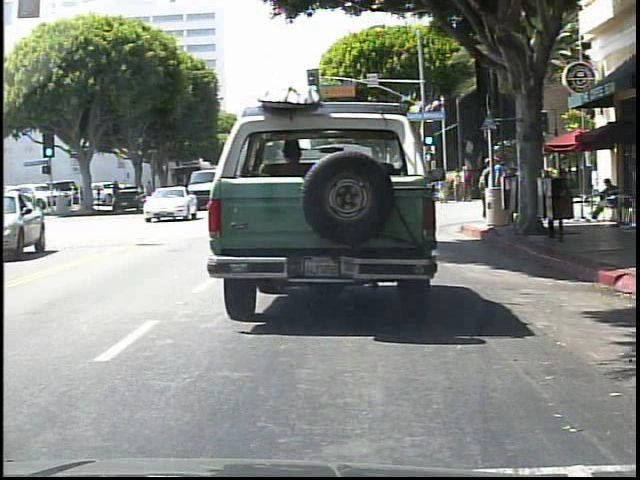person: (589, 173, 624, 221), (492, 156, 509, 220), (478, 158, 495, 218), (492, 160, 508, 218), (535, 163, 549, 206), (461, 163, 475, 203), (524, 165, 536, 206), (586, 162, 598, 200), (454, 168, 465, 202), (439, 169, 449, 204), (429, 175, 439, 205)
